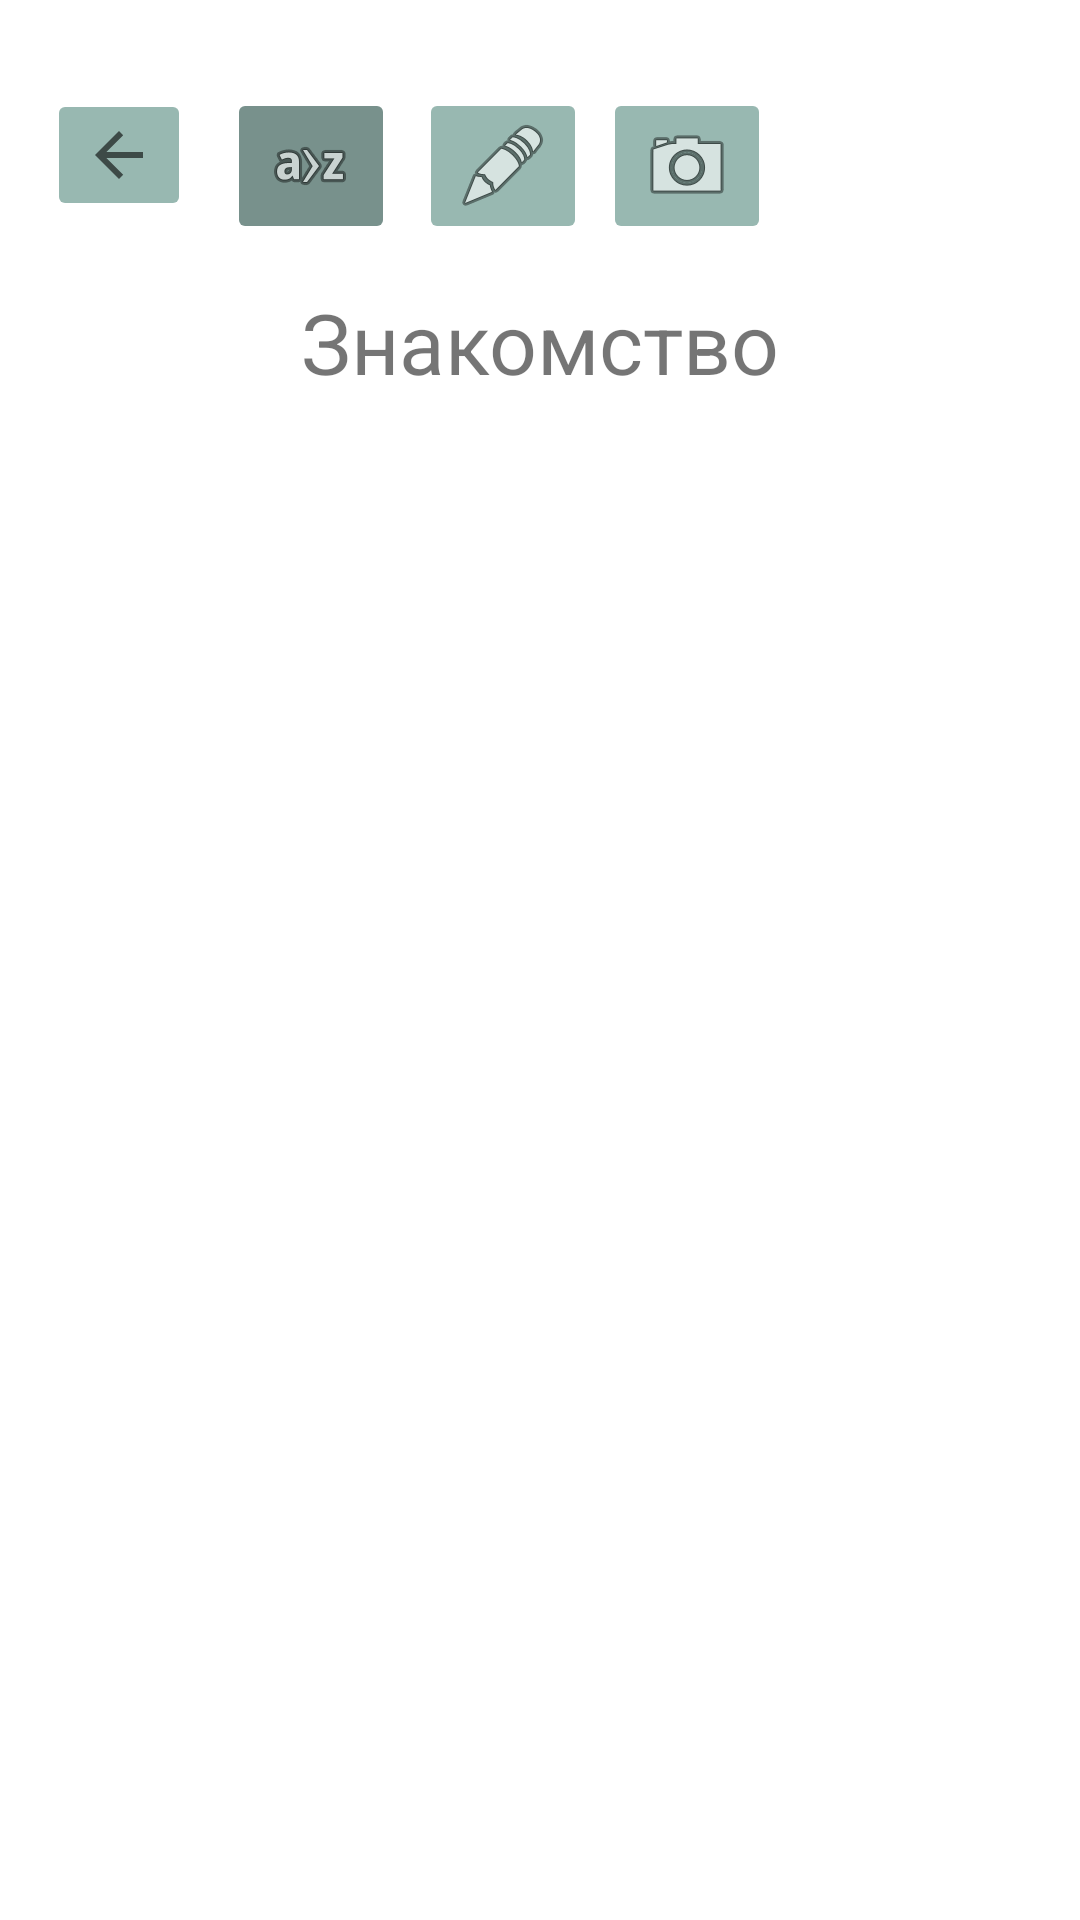

Icons on this 1080px×1920px Android screen, each with the point to tap as [x,y]:
camera: [687,166]
edit: [503,166]
sort alphabetically: [311,166]
